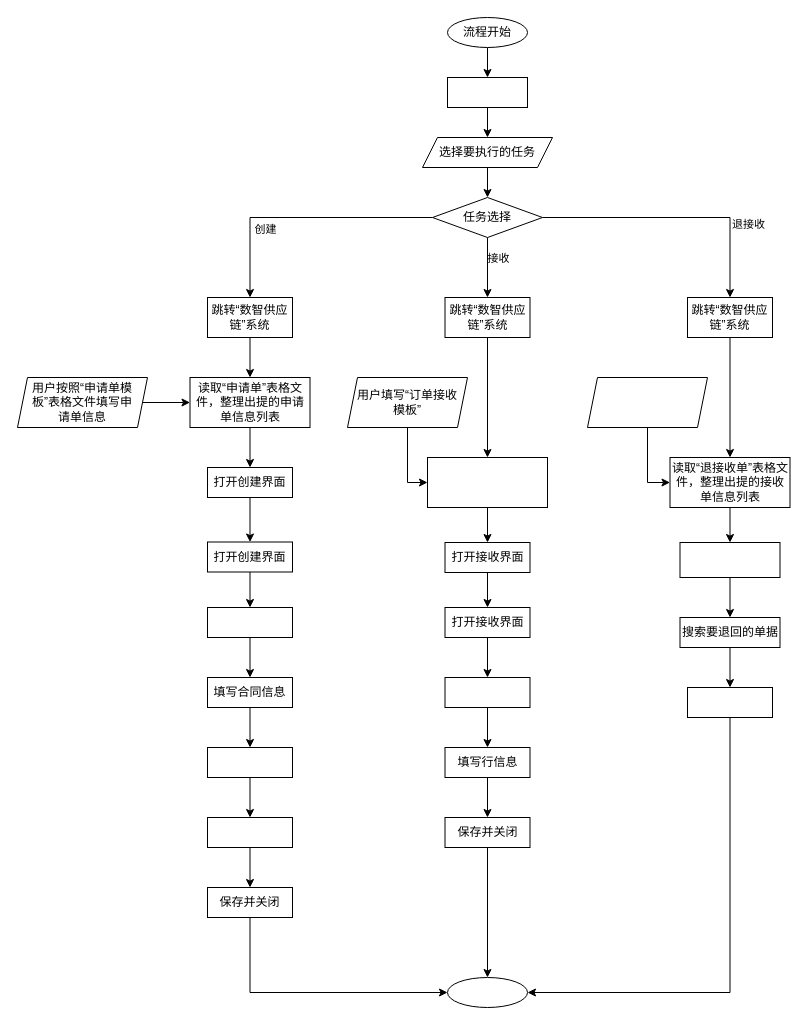
The diagram is 808 pixels wide and 1025 high, and some of its shapes have lost their labels. Each missing label, with the centre of its shape:
填写基本信息: point 249,622
填写头信息: point 487,692
填写物资列表: point 249,832
填写订单信息: point 249,762
打开OA: point 487,92
执行退单操作: point 729,702
搜索“执行单据退接收”: point 729,560
流程结束: point 487,992
用户填写“订单退 接收模板”: point 647,402
读取“接收单”表格文件，整理出提的接收单信息列表: point 487,482
